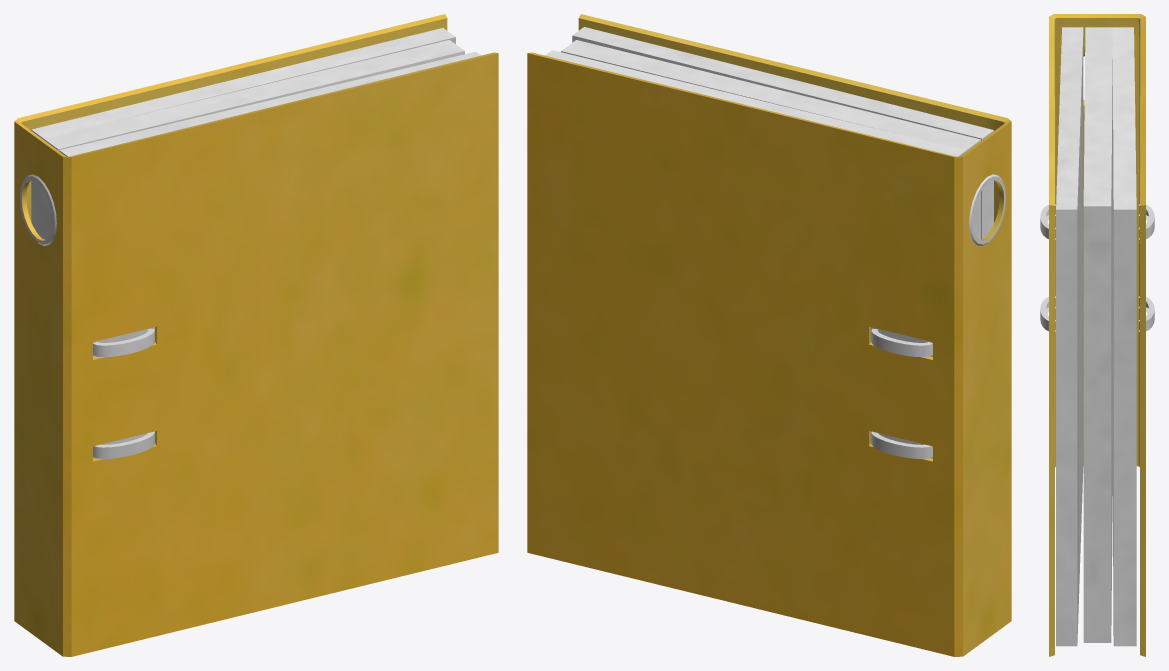
Rendered from folder yellow.fbx.
The picture shows the model from 3 angles, left to right: view 1: azimuth 30°, elevation 25°; view 2: azimuth 150°, elevation 25°; view 3: azimuth 270°, elevation 25°; orthographic projection. The views are drawn at different scales.
Parts seen in each view (by area): view 1: folder_yellow; view 2: folder_yellow; view 3: folder_yellow.
Part boxes in pixels (x1,y1,x2,y2): folder_yellow: (14, 14, 498, 656); folder_yellow: (527, 14, 1011, 656); folder_yellow: (1040, 14, 1154, 656).
Bounding box in the file's own units: 30.46 × 33.46 × 7.69.
